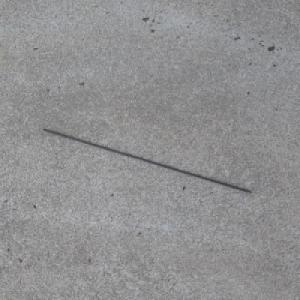LuggagePart: (40, 127, 253, 193)
